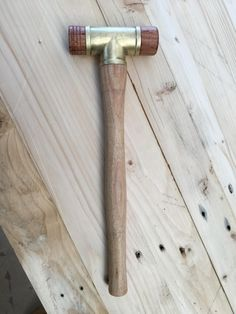hammer: (58, 14, 164, 298)
